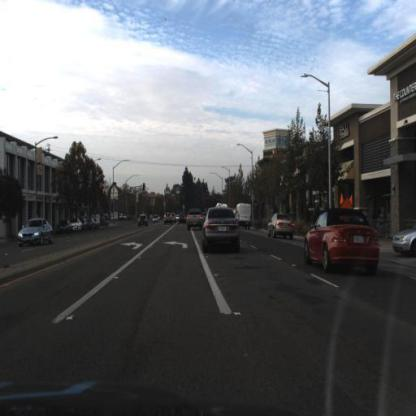car: (304, 208, 381, 276), (202, 204, 241, 255), (18, 218, 55, 248), (393, 221, 416, 258), (268, 214, 295, 242), (236, 200, 254, 230), (187, 208, 205, 233), (136, 213, 150, 230), (72, 218, 84, 235), (165, 213, 175, 229), (180, 213, 188, 225)
truck: (234, 202, 252, 230)
